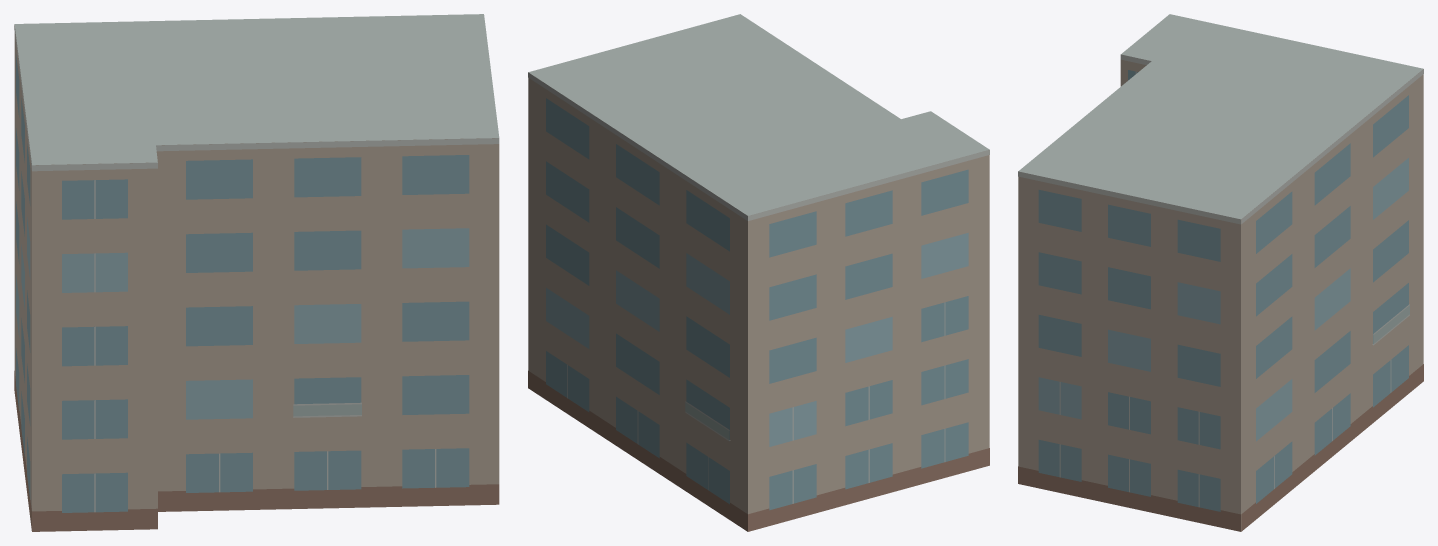
Rendered from survey-upis-32680494.glb.
The picture shows the model from 3 angles, left to right: view 1: azimuth 30°, elevation 25°; view 2: azimuth 150°, elevation 25°; view 3: azimuth 270°, elevation 25°; orthographic projection. The views are drawn at different scales.
Visible parts, largest first — view 1: survey-upis-32680494.tmp; view 2: survey-upis-32680494.tmp; view 3: survey-upis-32680494.tmp.
Boxes of the visible parts, bbox=[...] form: survey-upis-32680494.tmp: bbox=[14, 14, 499, 531]; survey-upis-32680494.tmp: bbox=[528, 14, 989, 531]; survey-upis-32680494.tmp: bbox=[1018, 14, 1423, 531].
Bounding box in the file's own units: 20.8 × 14.75 × 17.36.
